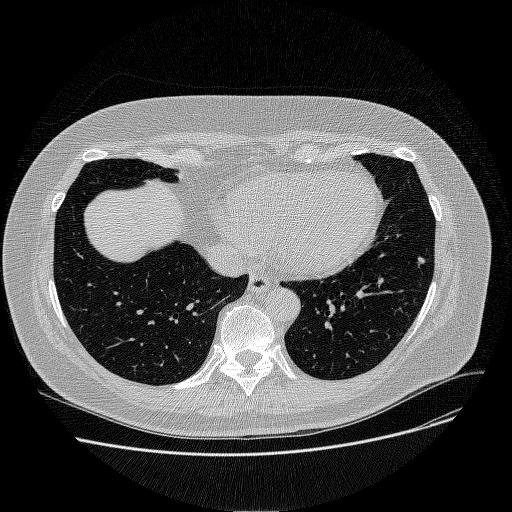nodule: (415, 255, 426, 266)
